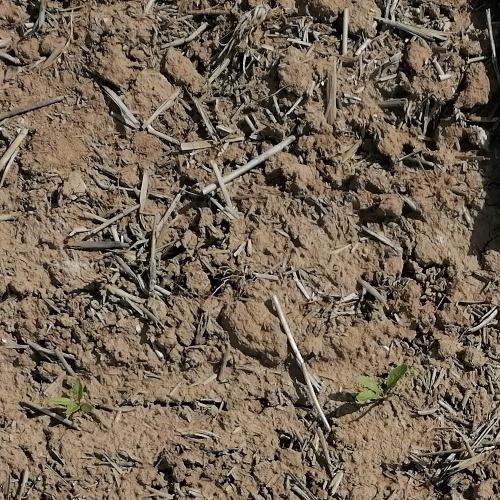beet: (356, 364, 409, 403), (48, 379, 95, 419)
